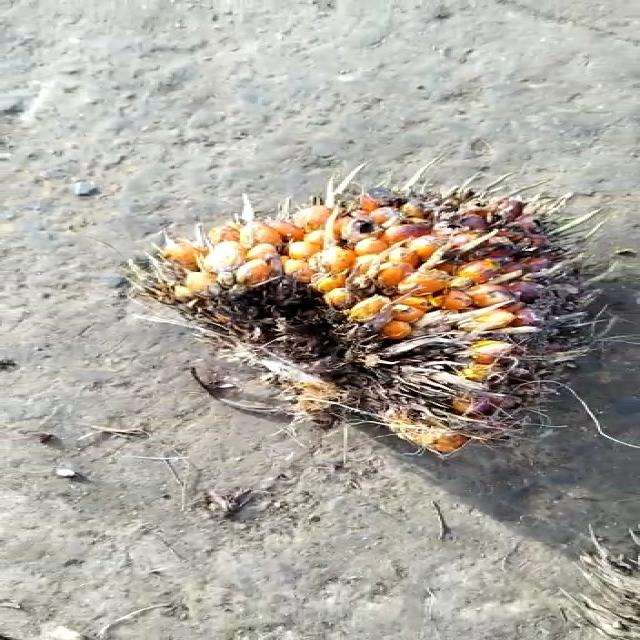palm oil: (106, 166, 640, 495)
